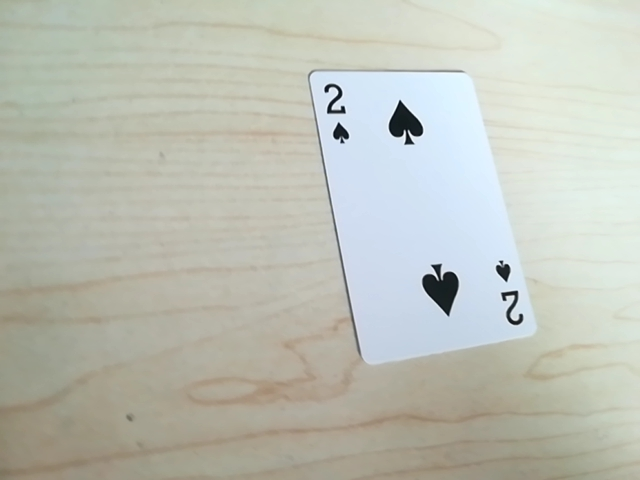ht 2: (316, 75, 357, 153), (490, 252, 522, 338)
